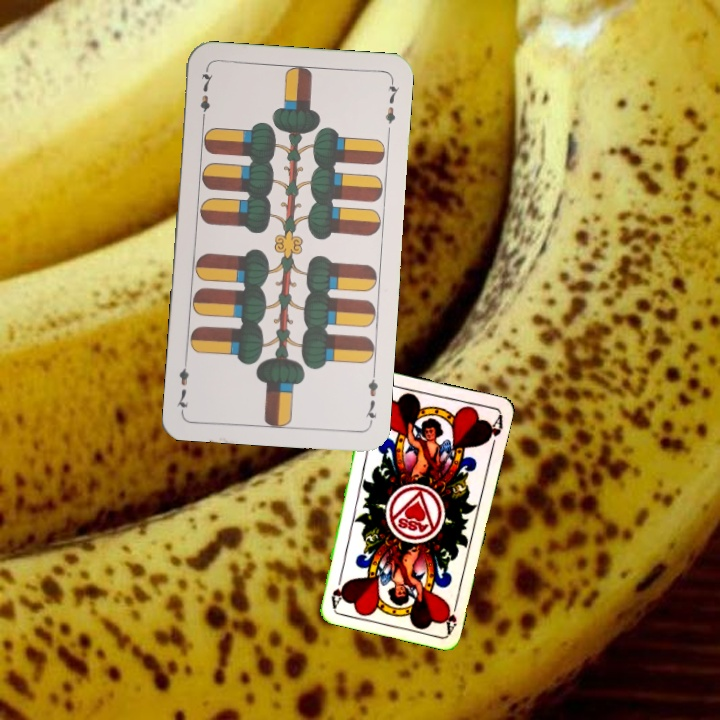E7: (361, 367, 381, 427), (196, 66, 216, 125)
HA: (440, 595, 461, 635)
